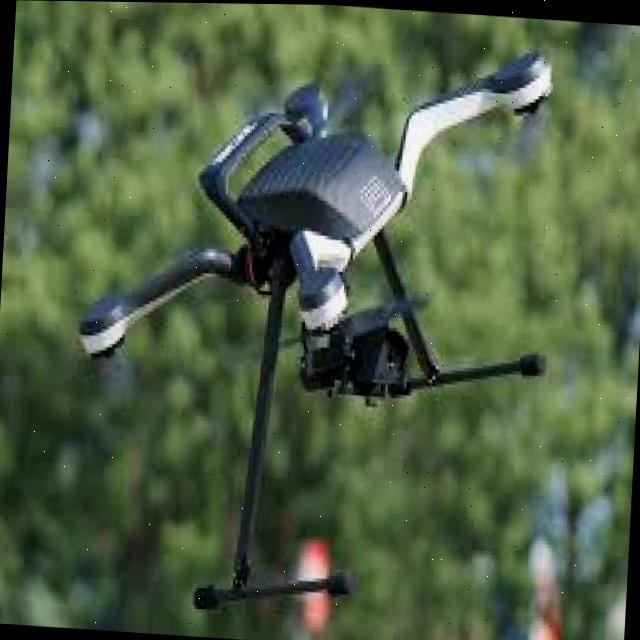drone: (65, 14, 575, 640)
